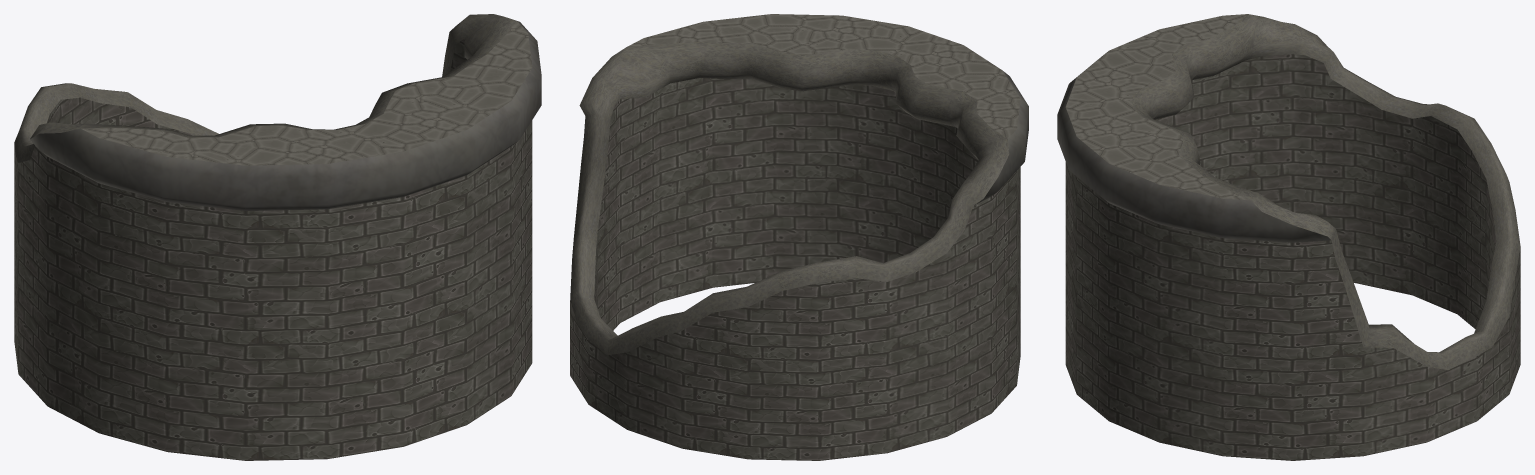
Rendered from Tower_TopRuined_01.fbx.
3 views of the same model, side by side, from view 1: azimuth 30°, elevation 25°; view 2: azimuth 150°, elevation 25°; view 3: azimuth 270°, elevation 25° (orthographic). The views are drawn at different scales.
Visible parts, largest first — view 1: Tower_TopRuined_01; view 2: Tower_TopRuined_01; view 3: Tower_TopRuined_01.
Boxes of the visible parts, x1=… form: Tower_TopRuined_01: x1=14, y1=14, x2=541, y2=460; Tower_TopRuined_01: x1=570, y1=14, x2=1028, y2=460; Tower_TopRuined_01: x1=1057, y1=14, x2=1520, y2=460.
Size of the model in its own units: 58.02 by 35.3 by 57.01.
